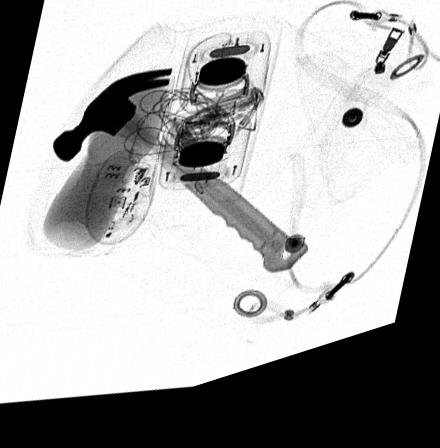Hammer: (51, 78, 308, 290)
